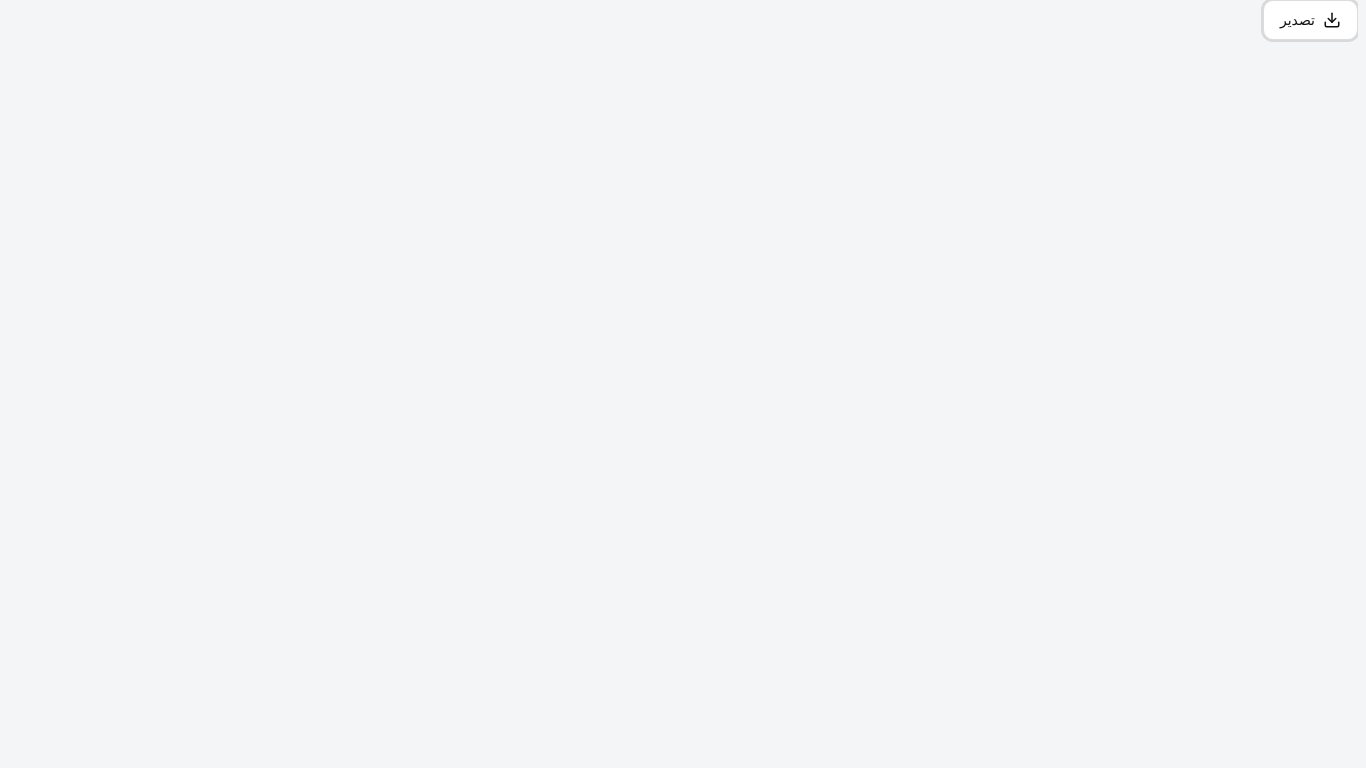
ExportMenu before a PDF › warns before a PDF that cannot hold every result, and offers the full Excel and CSV
Press Enter
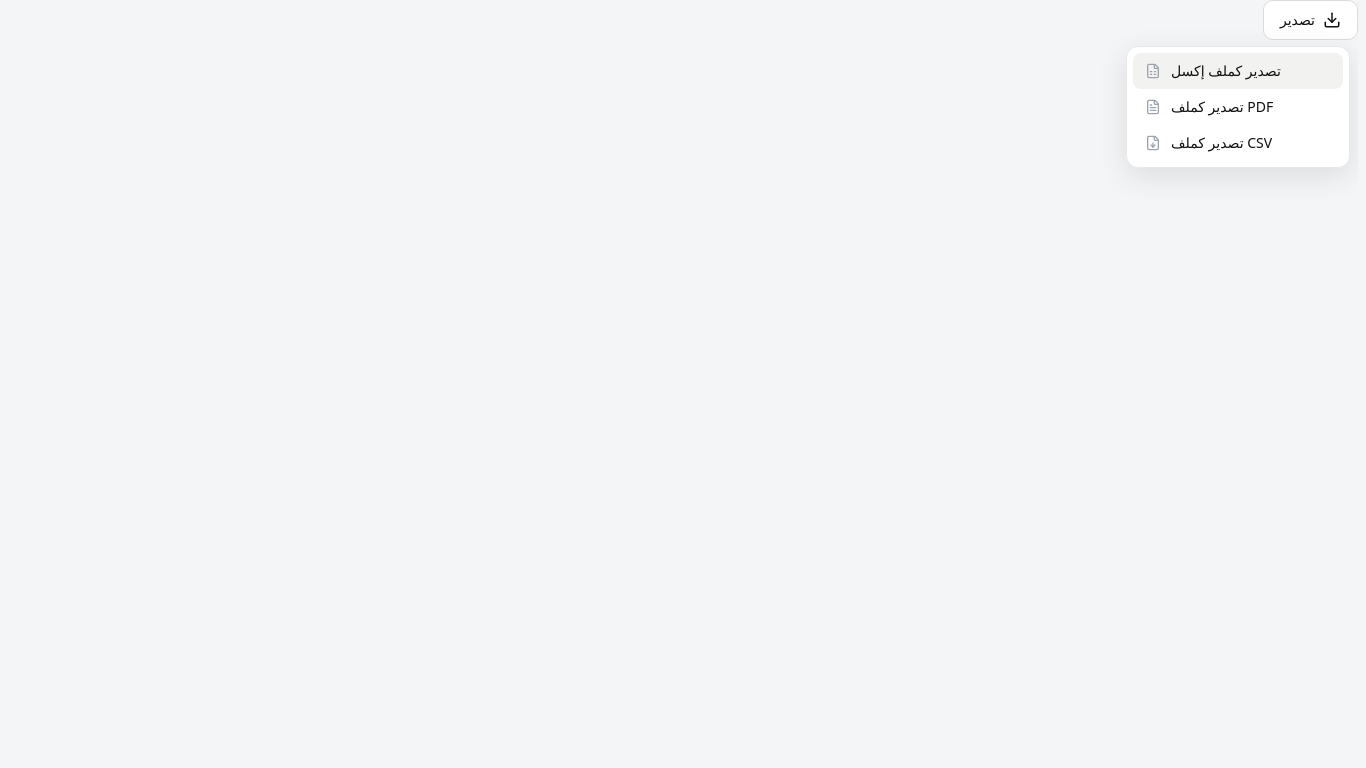
Click the menu item "تصدير كملف PDF". click: (1209, 106)
box: [1145,97,1273,116]
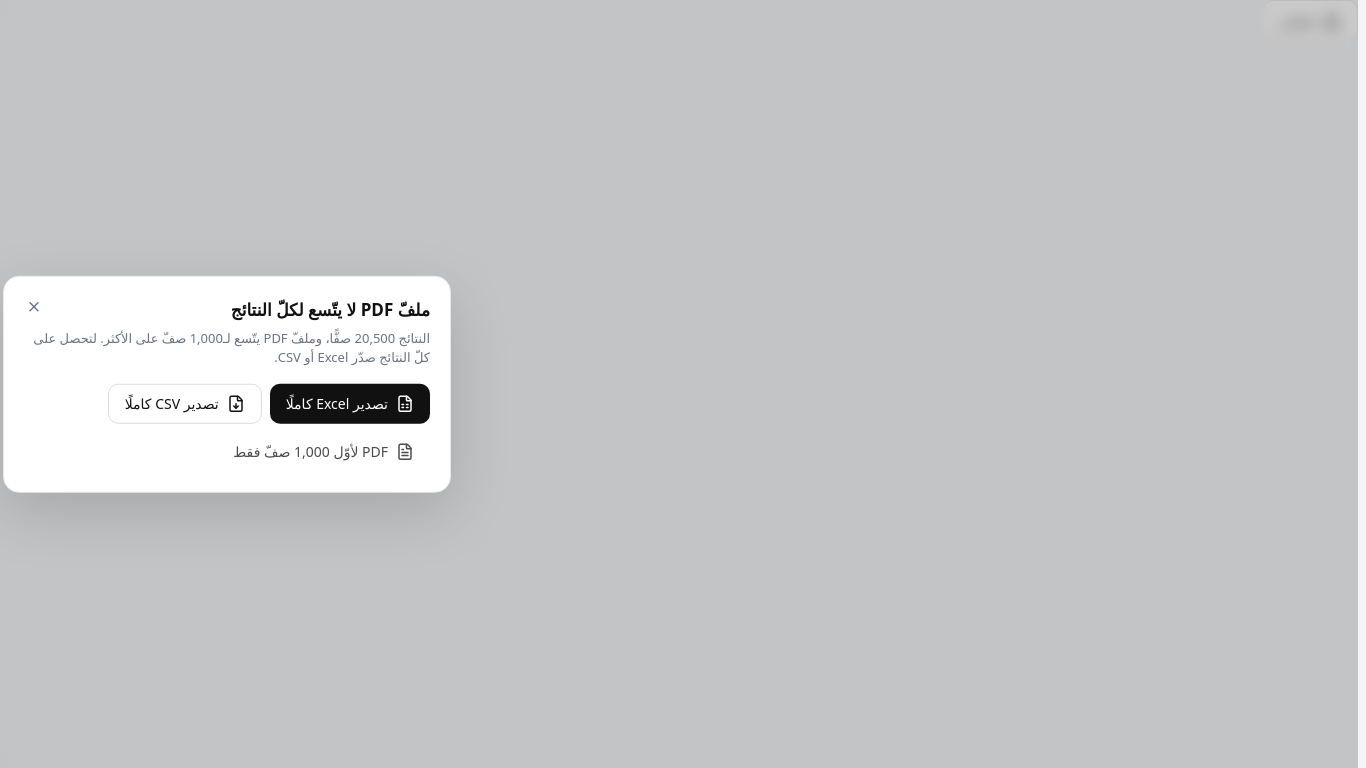
Check: the menu is gone
Check: the heading "ملفّ PDF لا يتّسع لكلّ النتائج" is shown, box [231,298,430,321]
Check: the dialog shows "النتائج 20,500 صفًّا، وملفّ PDF يتّسع لـ1,000 صفّ على الأكثر. لتحصل على كلّ النتائج صدّر Excel أو CSV.", box [33,328,430,366]
